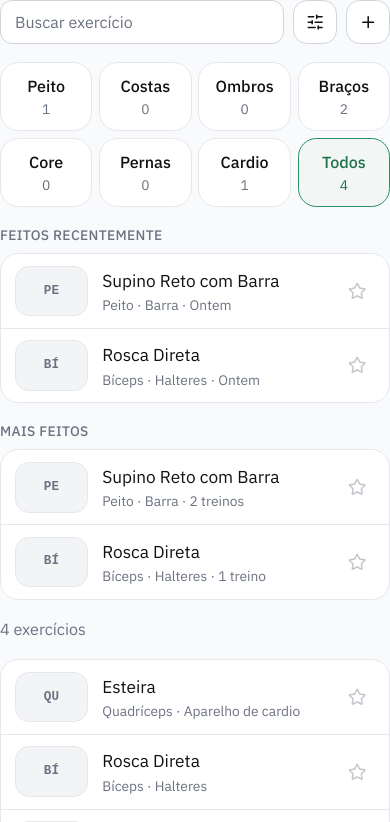
refinamentos da tela Exercícios › recentes e mais feitos aparecem com a lista em repouso, e somem com busca ou grupo
Expected: the heading "Feitos recentemente" is shown, top-left (0, 226), bottom-right (163, 244)
Expected: the heading "Mais feitos" is shown, top-left (0, 422), bottom-right (89, 440)
Click the button "Braços 2" at (344, 97), box top-left (298, 62), bottom-right (389, 131)
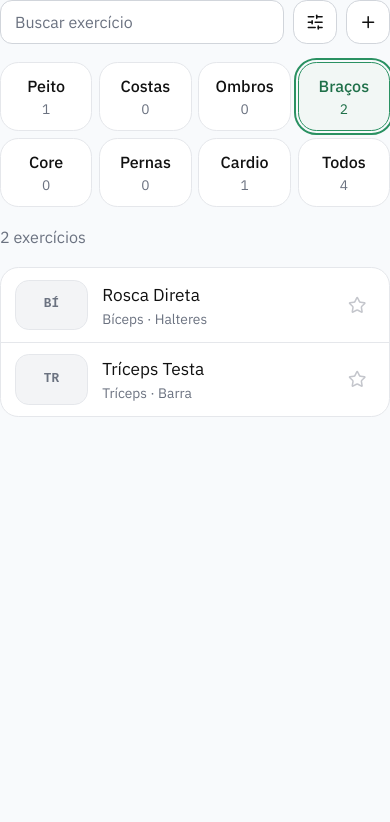
Now the heading "Feitos recentemente" is gone
